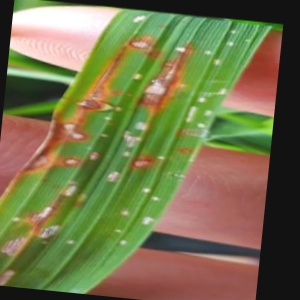Brown_Spot: (78, 65, 121, 119), (142, 61, 183, 113), (126, 145, 169, 192), (17, 144, 61, 181), (12, 199, 64, 230), (164, 137, 214, 169), (48, 117, 97, 149), (0, 228, 40, 262), (33, 217, 72, 251), (0, 263, 22, 297), (57, 176, 87, 200), (62, 150, 85, 177)
